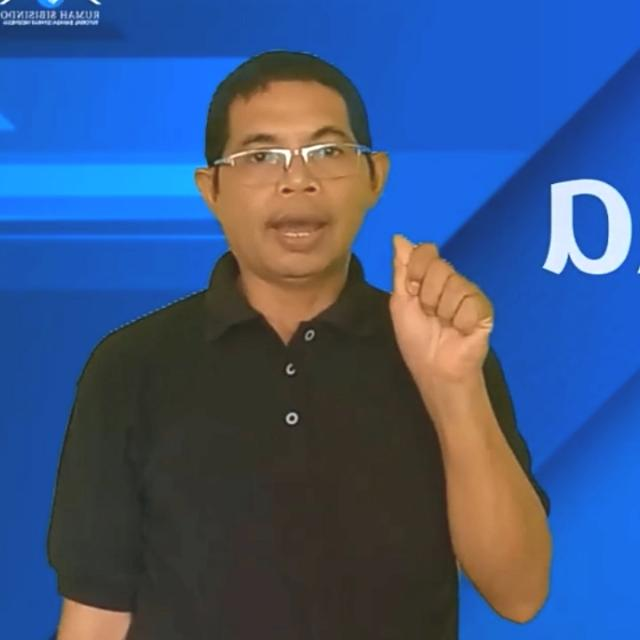A: (382, 230, 500, 378)
